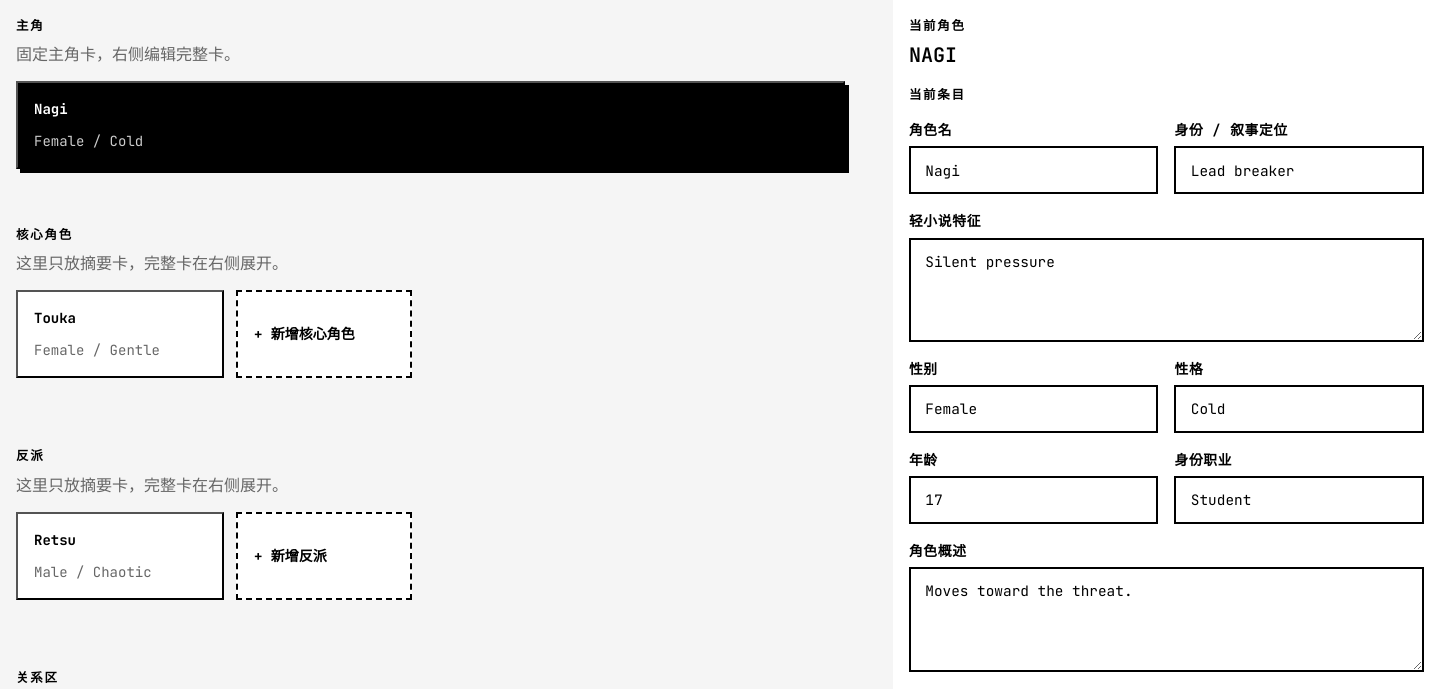
Test: CharacterSection › falls back to hero after deleting a selected antagonist
Click the button "Retsu Male / Chaotic".
click(120, 556)  # box x1=16 y1=512 x2=224 y2=600
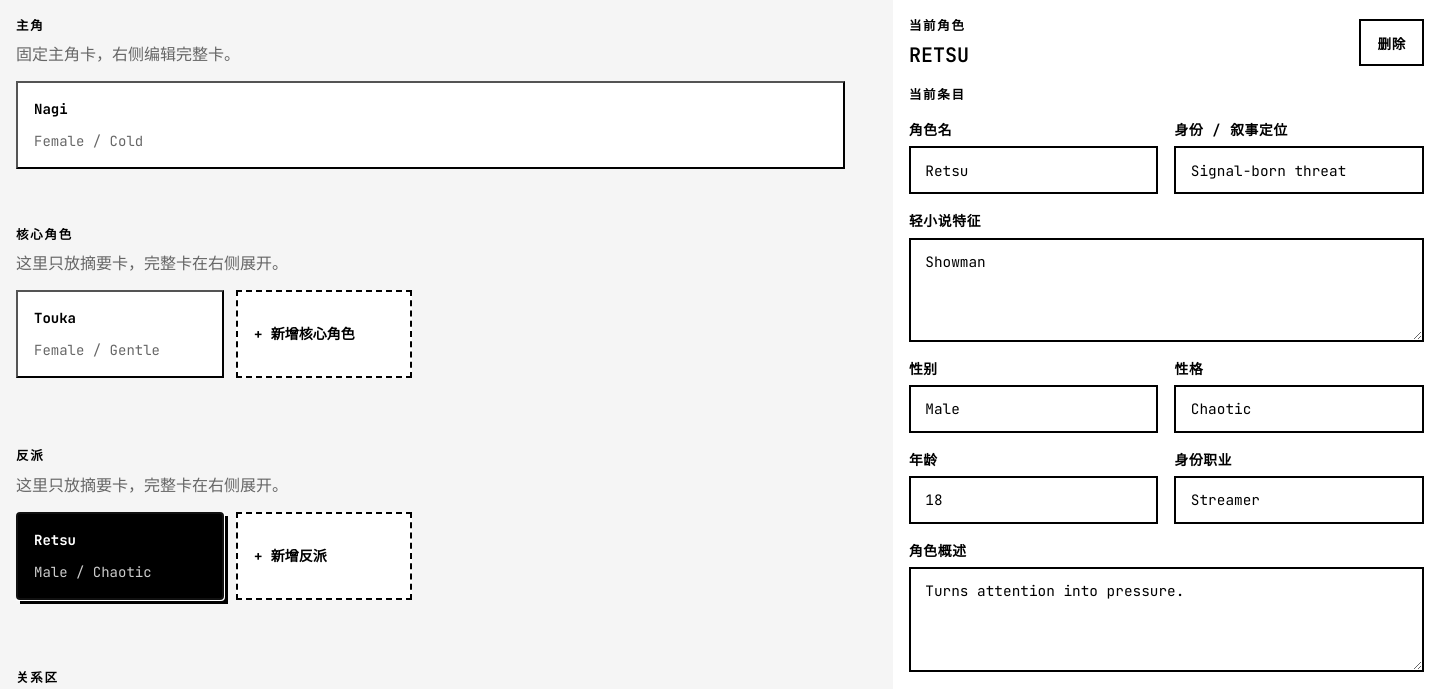
Expected: the field labelled "角色名" holds "Retsu", x1=909 y1=146 x2=1158 y2=194
Click the button "删除".
click(1392, 43)  # box x1=1359 y1=19 x2=1424 y2=66
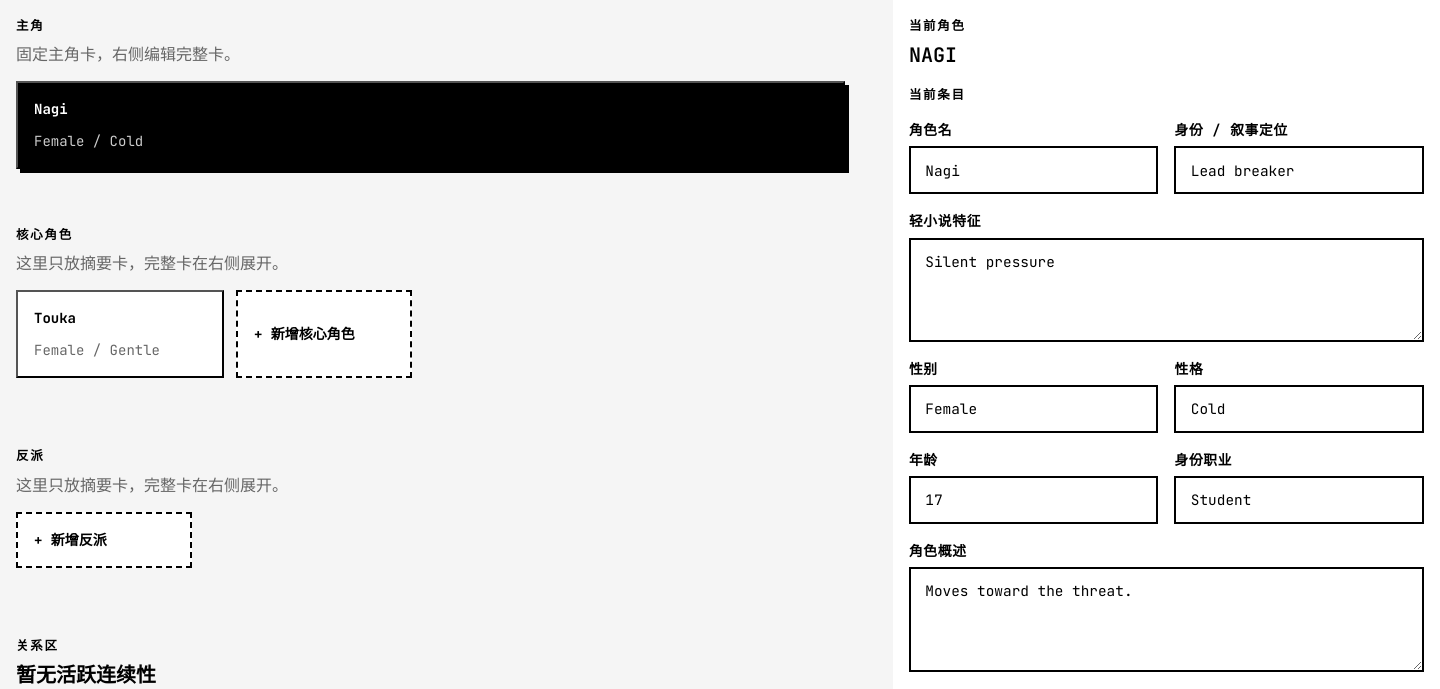
Expected: the field labelled "角色名" holds "Nagi", x1=909 y1=146 x2=1158 y2=194
